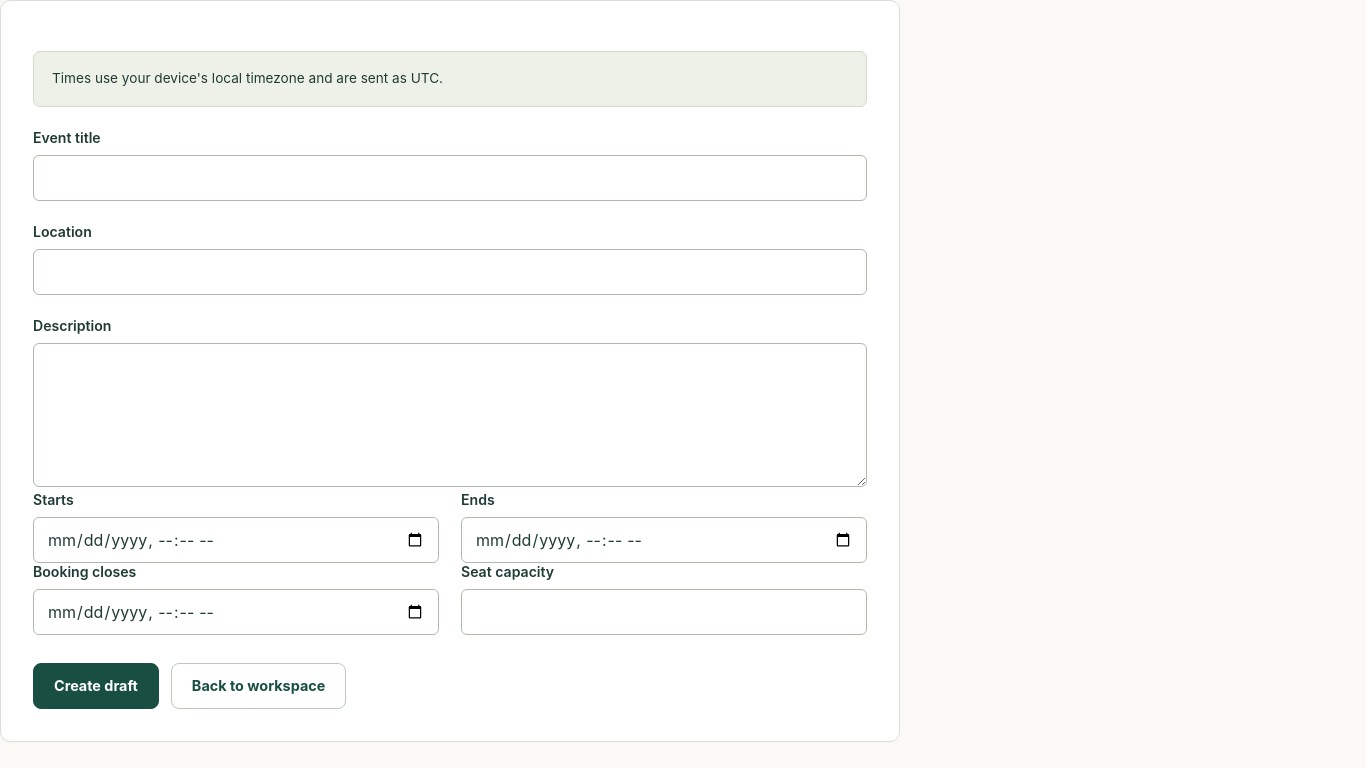
Scenario: organizer management › validates merged schedules before sending writes
Step 1. Type "New" into the field labelled "Event title" → (450, 178), box x1=33 y1=155 x2=867 y2=201
Step 2. Type "Room" into the field labelled "Location" → (450, 272), box x1=33 y1=249 x2=867 y2=295
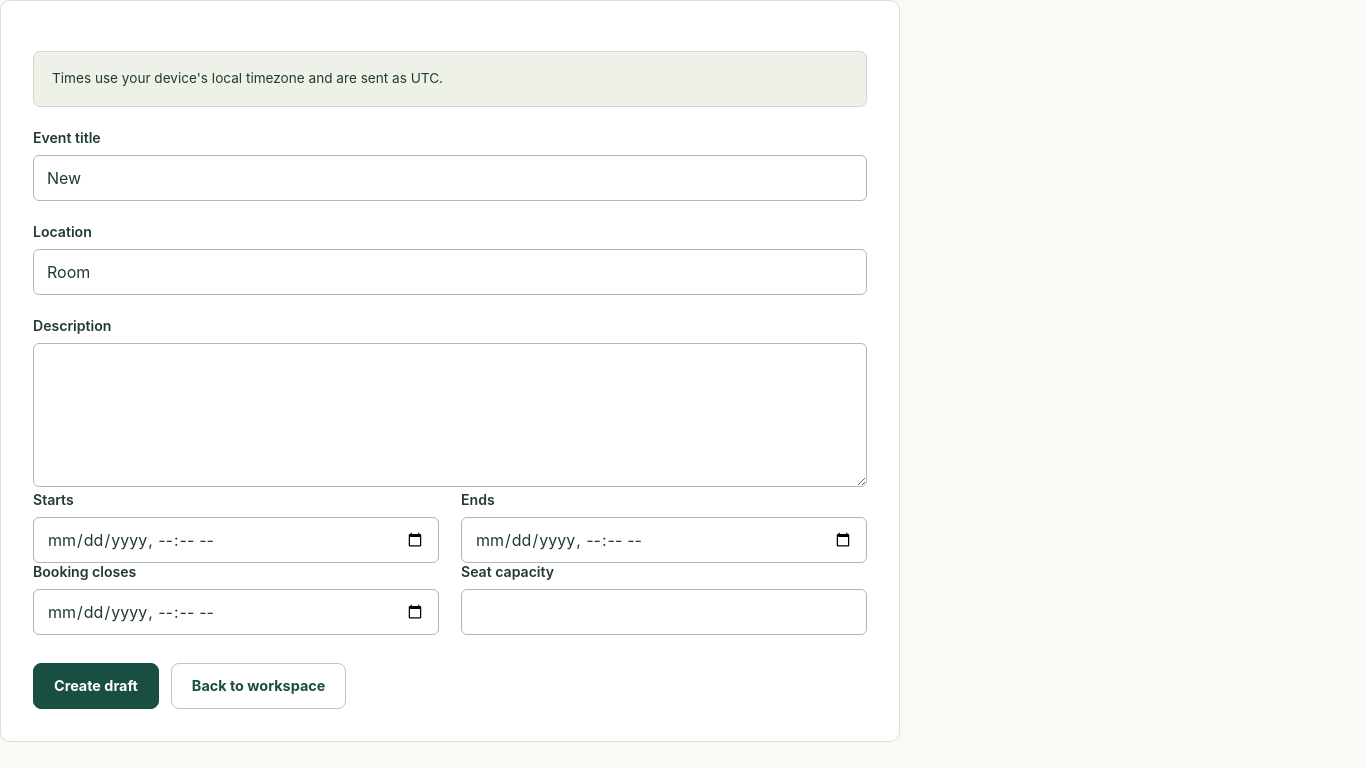
Step 3. Type "2035-01-02T10:00" into the field labelled "Starts" → (236, 540), box x1=33 y1=517 x2=439 y2=563
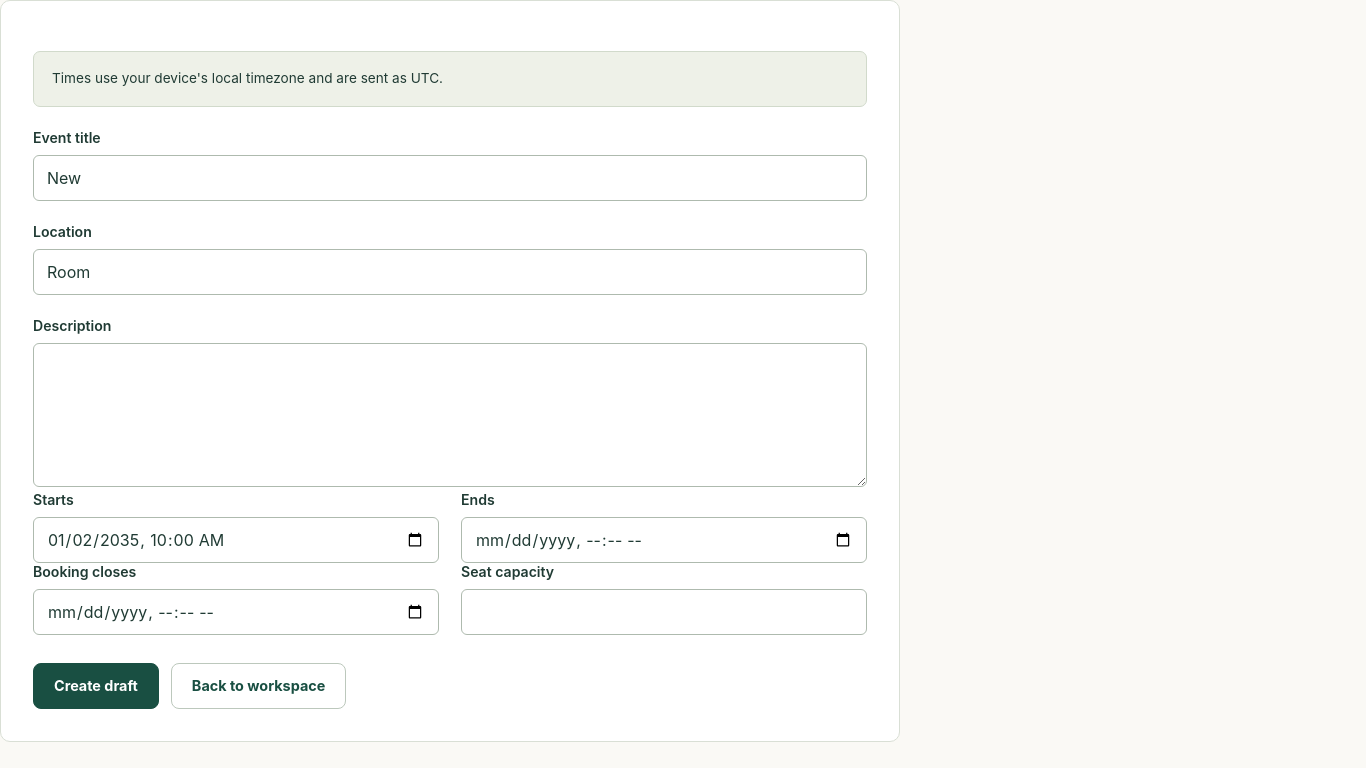
Step 4. Type "2035-01-01T10:00" into the field labelled "Ends" → (664, 540), box x1=461 y1=517 x2=867 y2=563
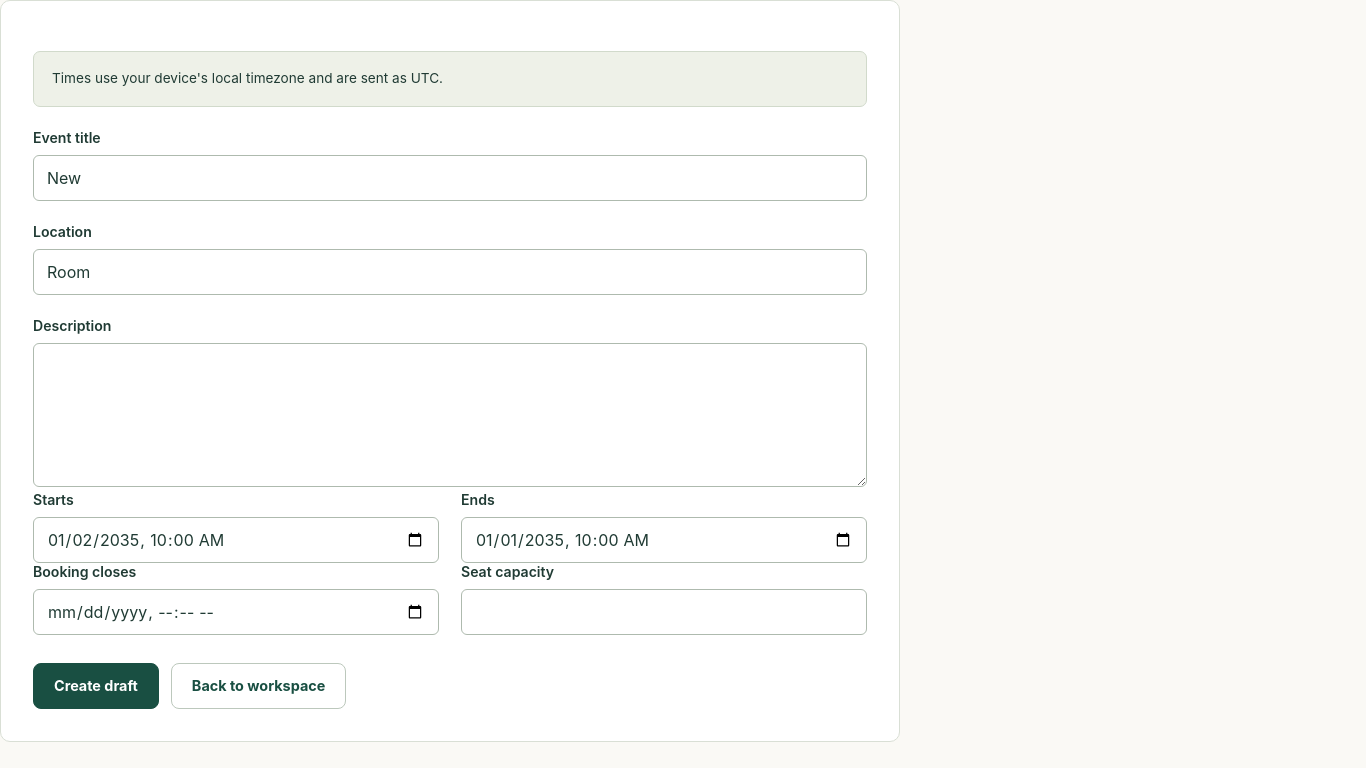
Step 5. Type "2035-01-01T09:00" into the field labelled "Booking closes" → (236, 612), box x1=33 y1=589 x2=439 y2=635
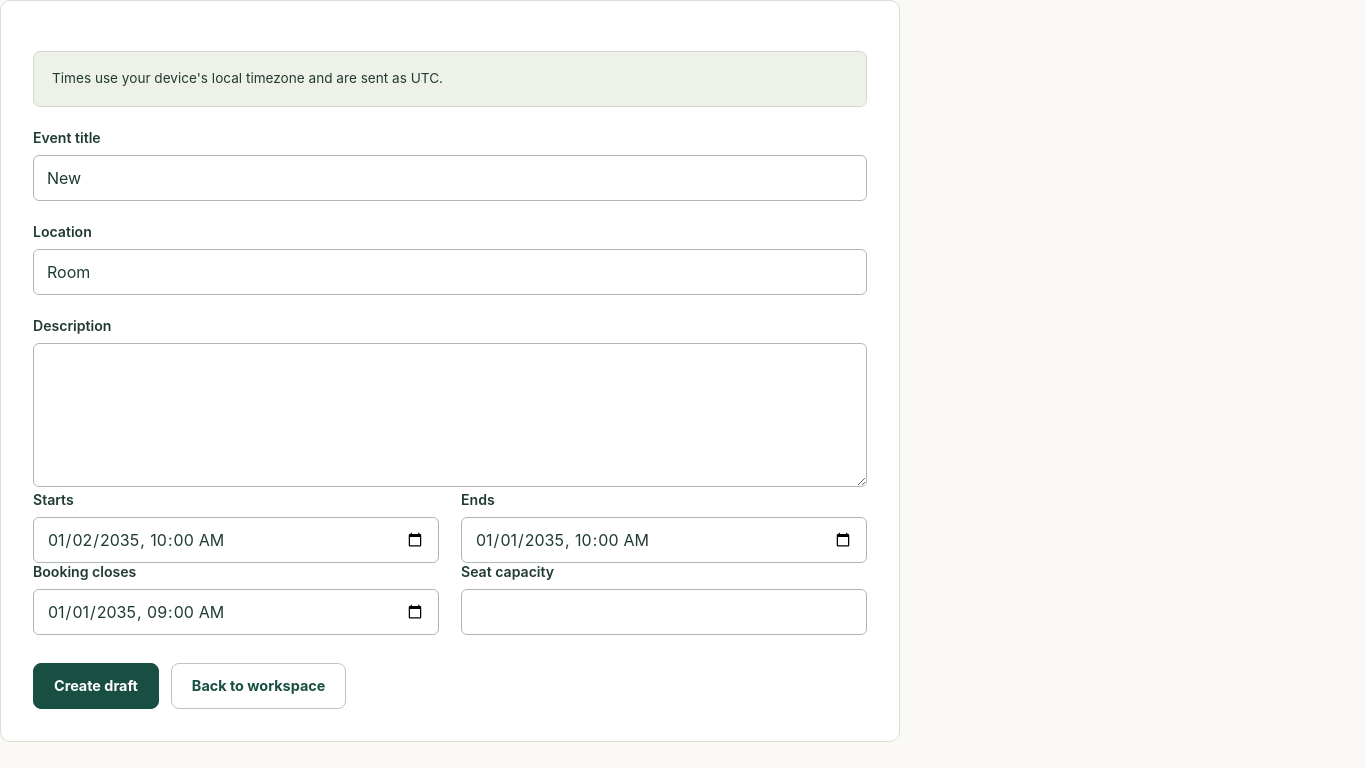
Step 6. Type "10" into the number field labelled "Seat capacity" → (664, 612), box x1=461 y1=589 x2=867 y2=635
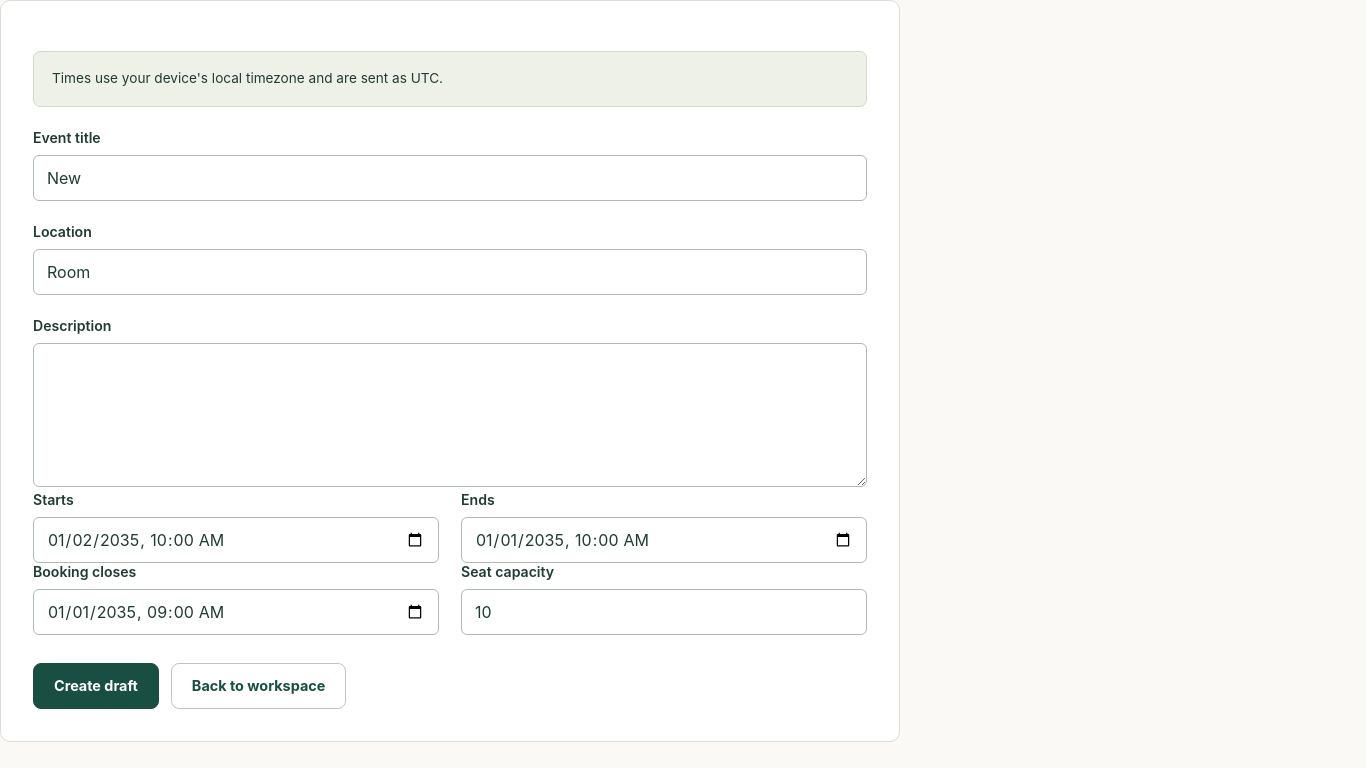
Step 7. Click the button "Create draft" → (96, 686), box x1=33 y1=663 x2=159 y2=709
(page scrolled)
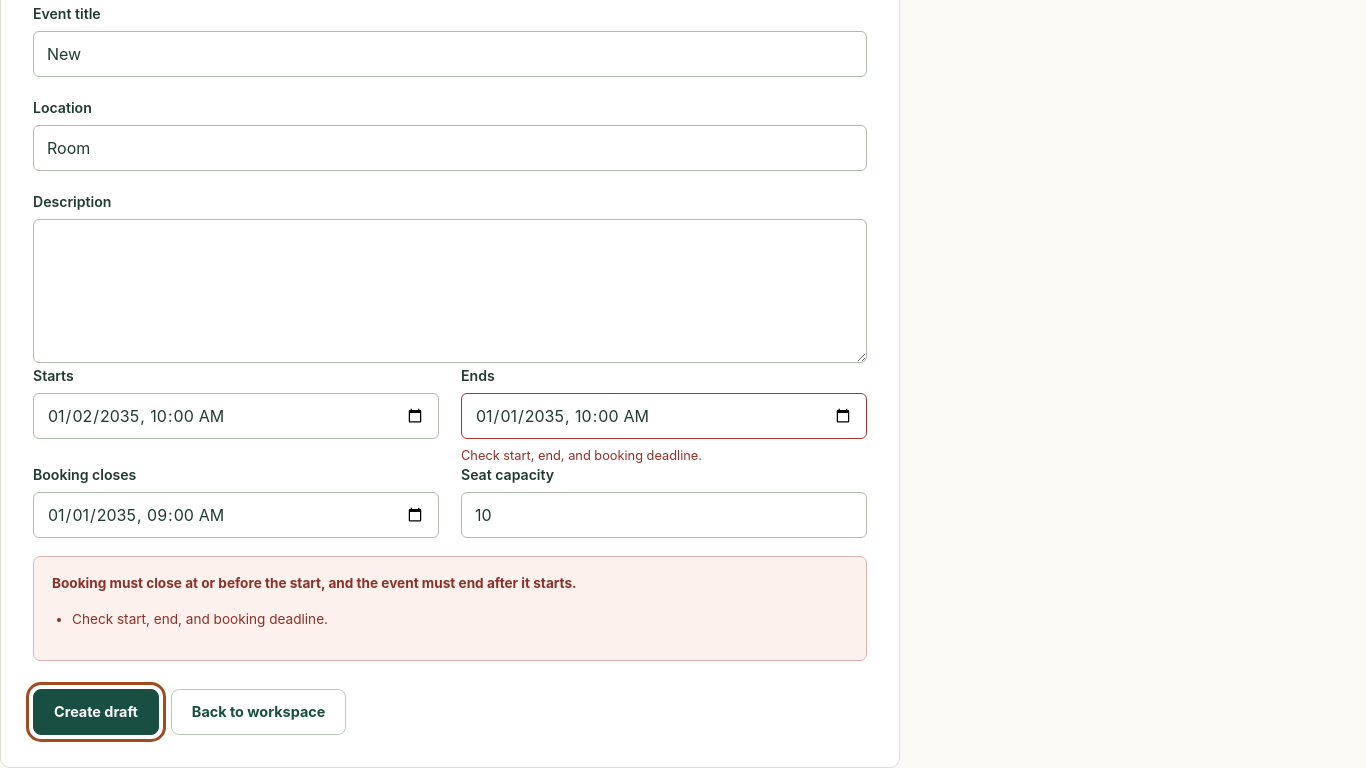
Expected: the message shows "Booking must close", x1=52 y1=575 x2=577 y2=591
